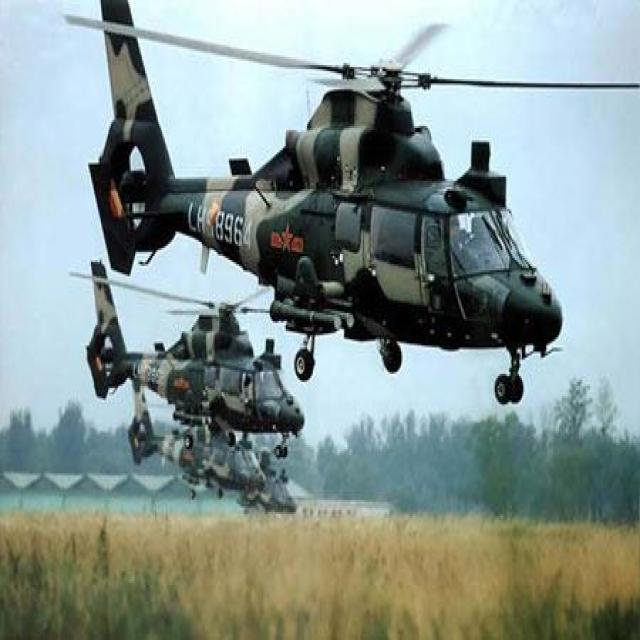MIL_HELO: (58, 0, 627, 404), (54, 245, 310, 465)
